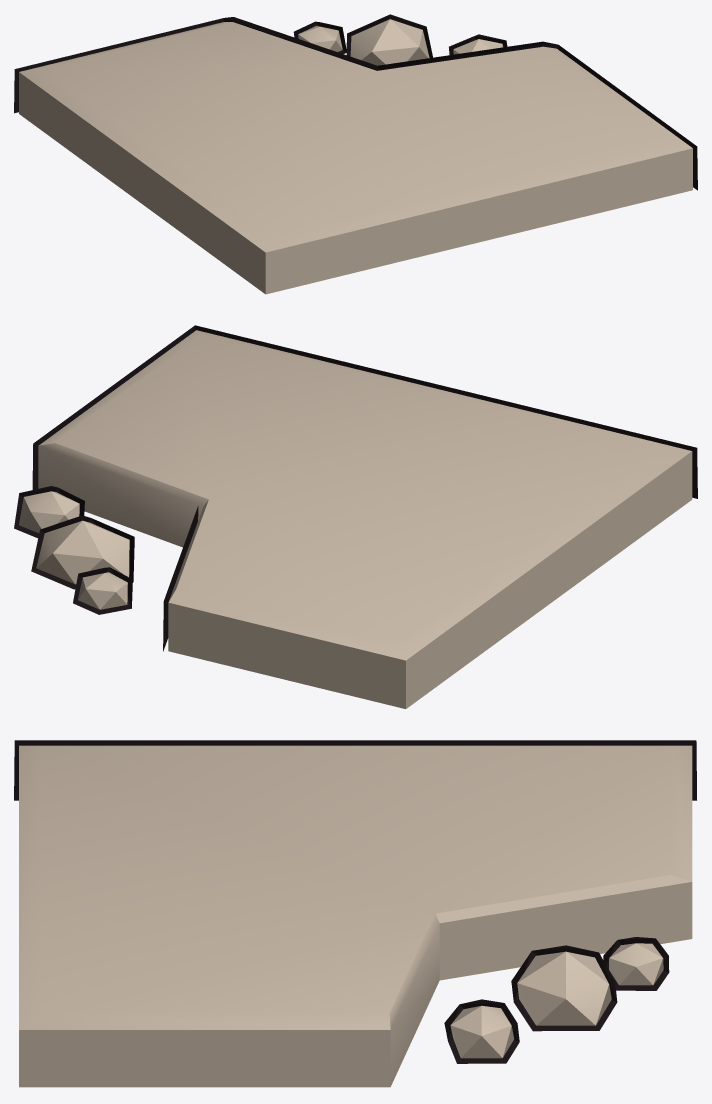
Rendered from SM_RoadTile_07.fbx.
3 views of the same model, one above another, from view 1: azimuth 30°, elevation 25°; view 2: azimuth 150°, elevation 25°; view 3: azimuth 270°, elevation 25° (orthographic). The views are drawn at different scales.
Parts seen in each view (by area): view 1: SM_RoadTile_07; view 2: SM_RoadTile_07; view 3: SM_RoadTile_07.
Part boxes in pixels (box(x1,y1,x2,y2)): SM_RoadTile_07: box(14, 14, 697, 294); SM_RoadTile_07: box(14, 325, 697, 708); SM_RoadTile_07: box(14, 740, 696, 1087).
Size of the model in its own units: 0.9748 by 0.1161 by 0.9753.
